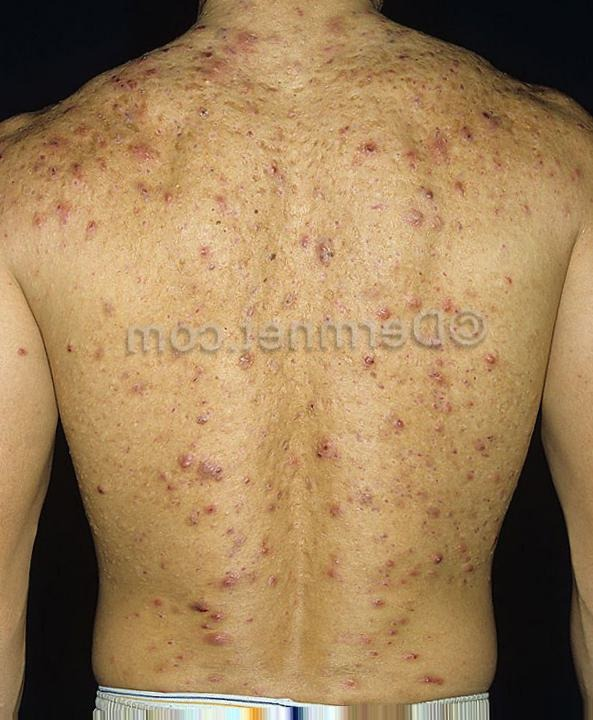Acne: (32, 29, 525, 697)
